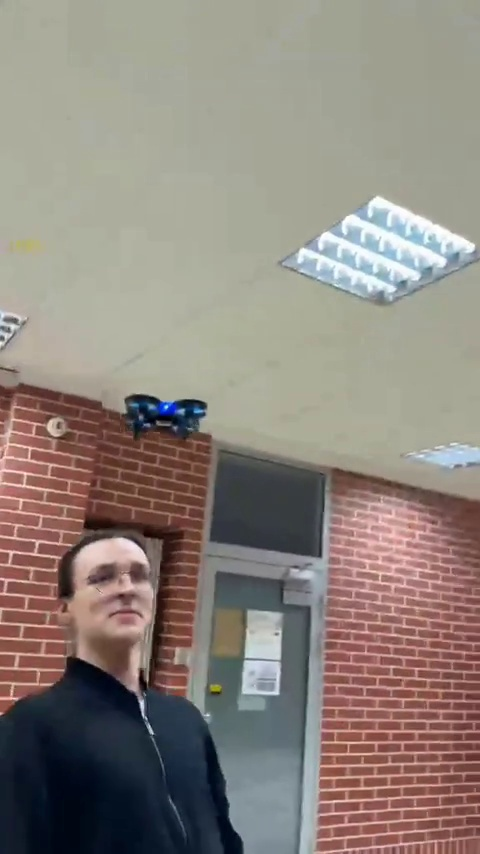drone: (120, 393, 207, 445)
no vest: (0, 533, 248, 854)
